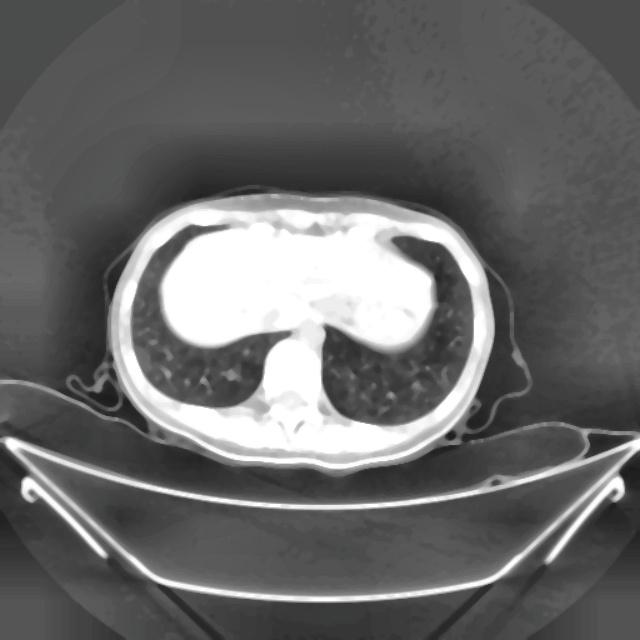covid: (103, 185, 504, 476)
